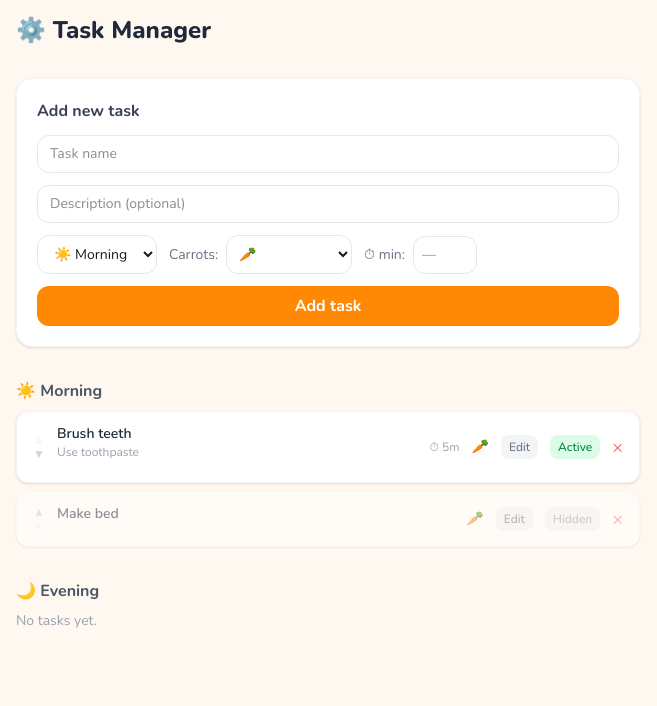
Scenario: TaskManager editing › clears the error when editing routine
The image size is (657, 706).
Check: the text "Brush teeth" is shown, box [57,424,132,443]
Click the button "Edit" in the row of "Use toothpaste" at [520, 447], box [501,435,538,459]
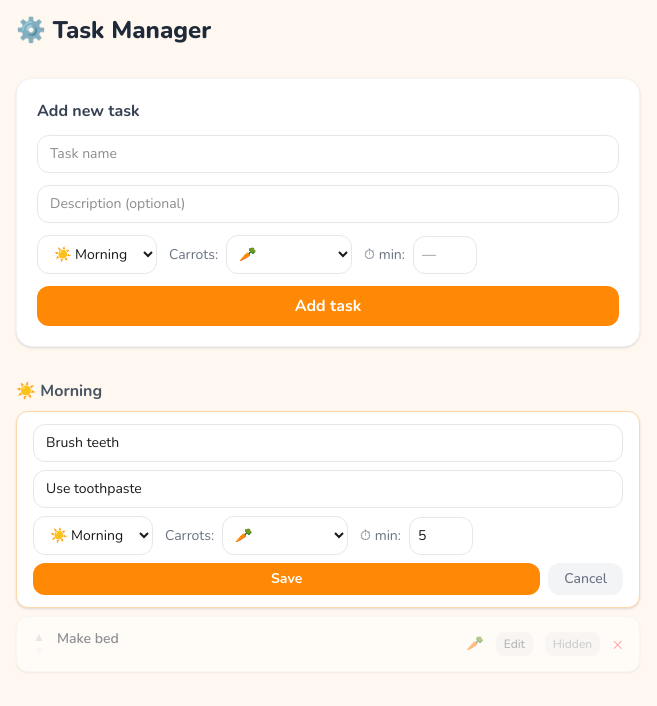
Click the button "Save" at [287, 579], box [33,563,540,595]
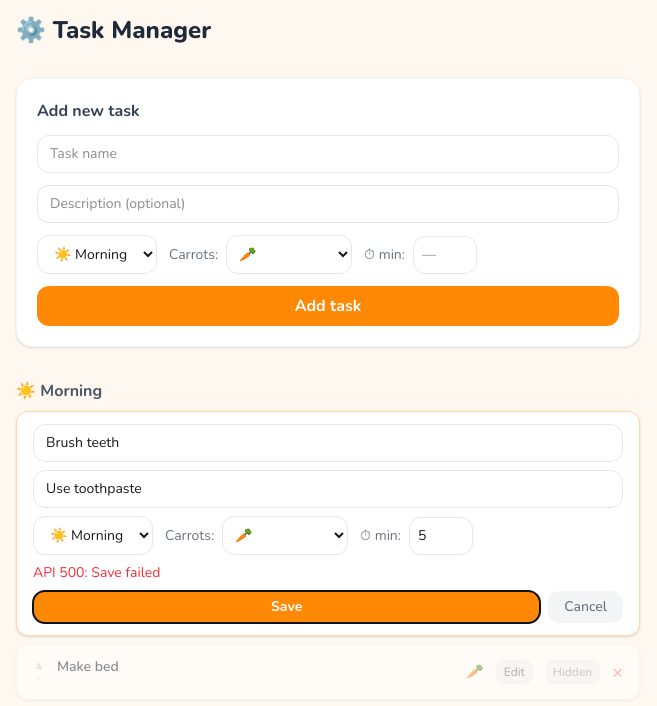
Check: the message "API 500: Save failed" is shown, box [33,563,160,582]
Select "🌙 Evening" in the 3rd dropdown at [93, 536], box [33,516,153,555]
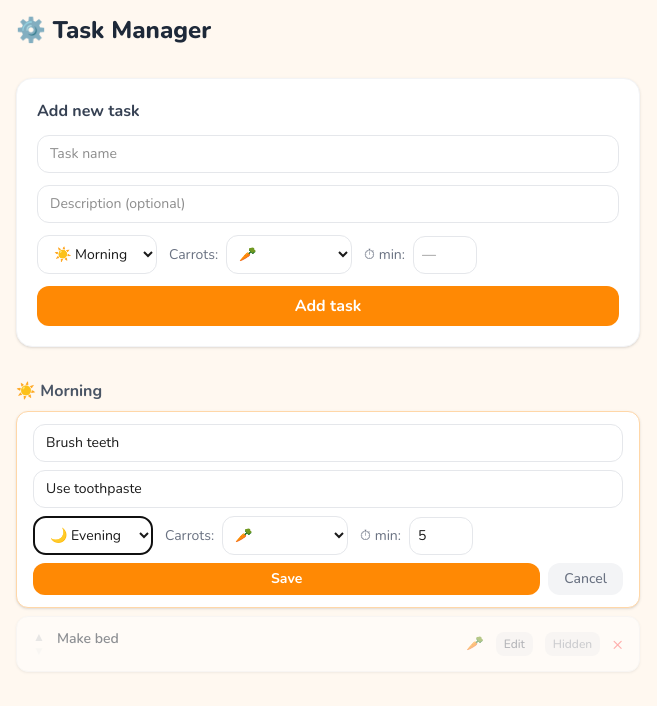
Check: the button "Save" is shown, box [33,563,540,595]
Check: the message "API 500: Save failed" is gone
